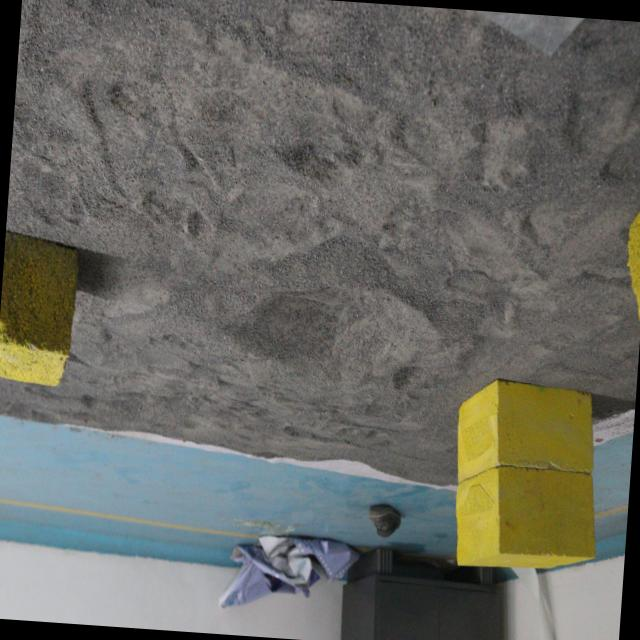box: (438, 374, 604, 566), (0, 212, 87, 400)
crater: (210, 252, 452, 404)
